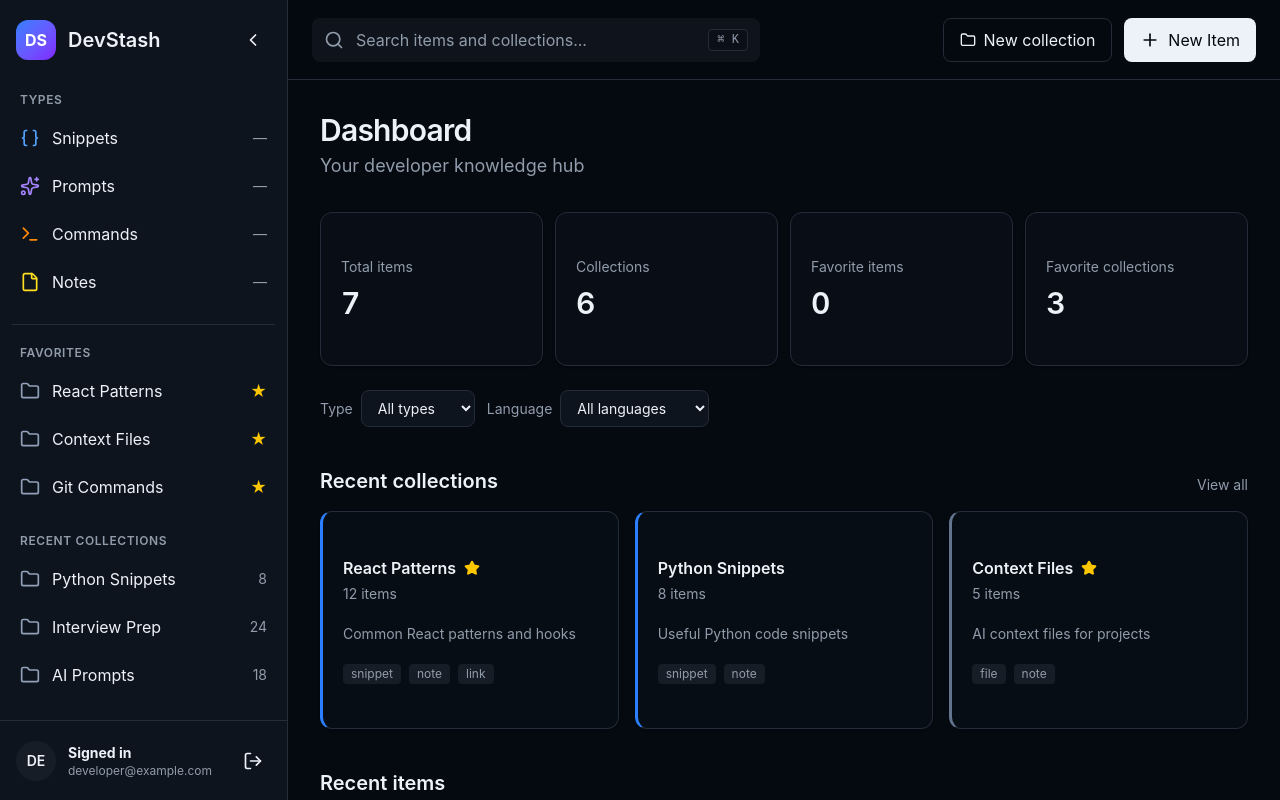
Test: does not show invented item type counts while live data is unavailable
The width and height of the screenshot is (1280, 800).
Expected: the link with aria-label "Snippets, count unavailable" is shown, [20,128,267,148]
Step 1. Click the button with aria-label "Open global search" → (536, 40), box [312,18,760,62]
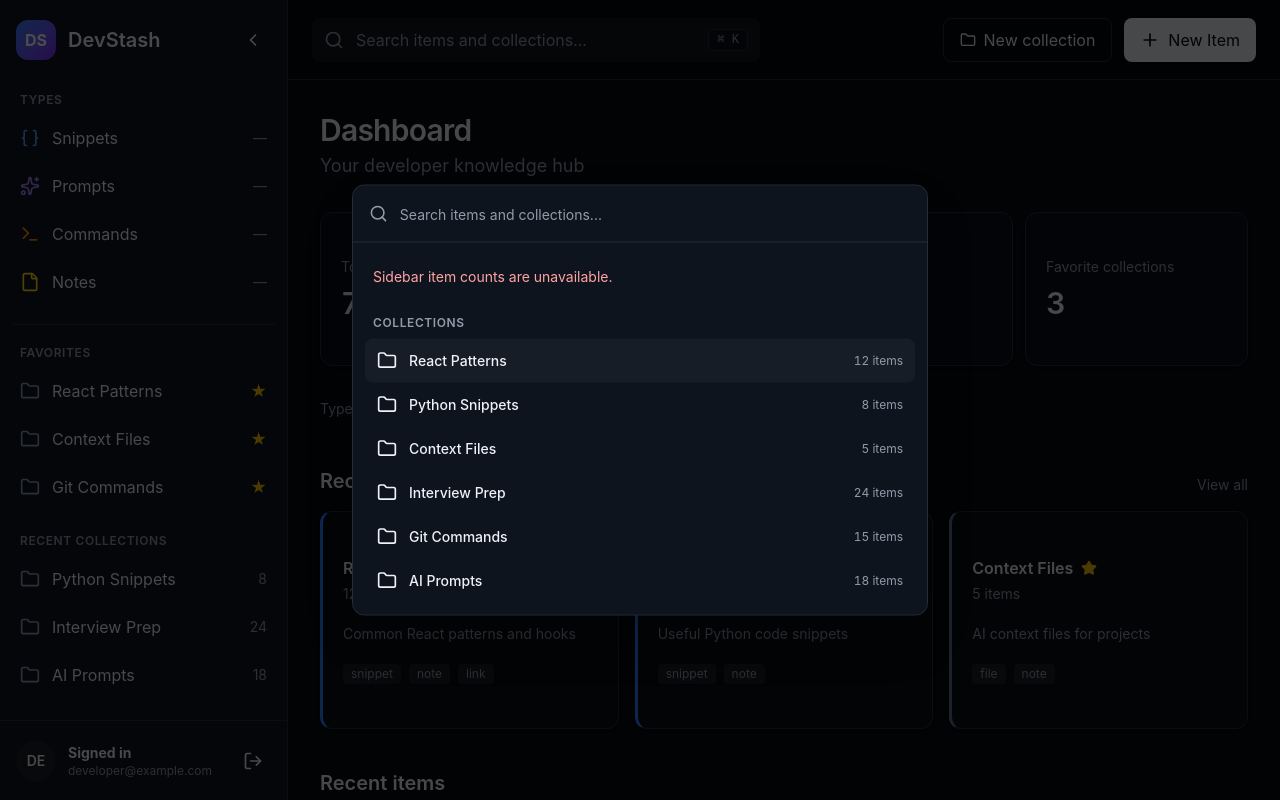
Expected: the link with aria-label "Snippets, count unavailable" is shown, [20,128,267,148]
Result: the message reads "Sidebar item counts are unavailable." at [373,268,612,284]
